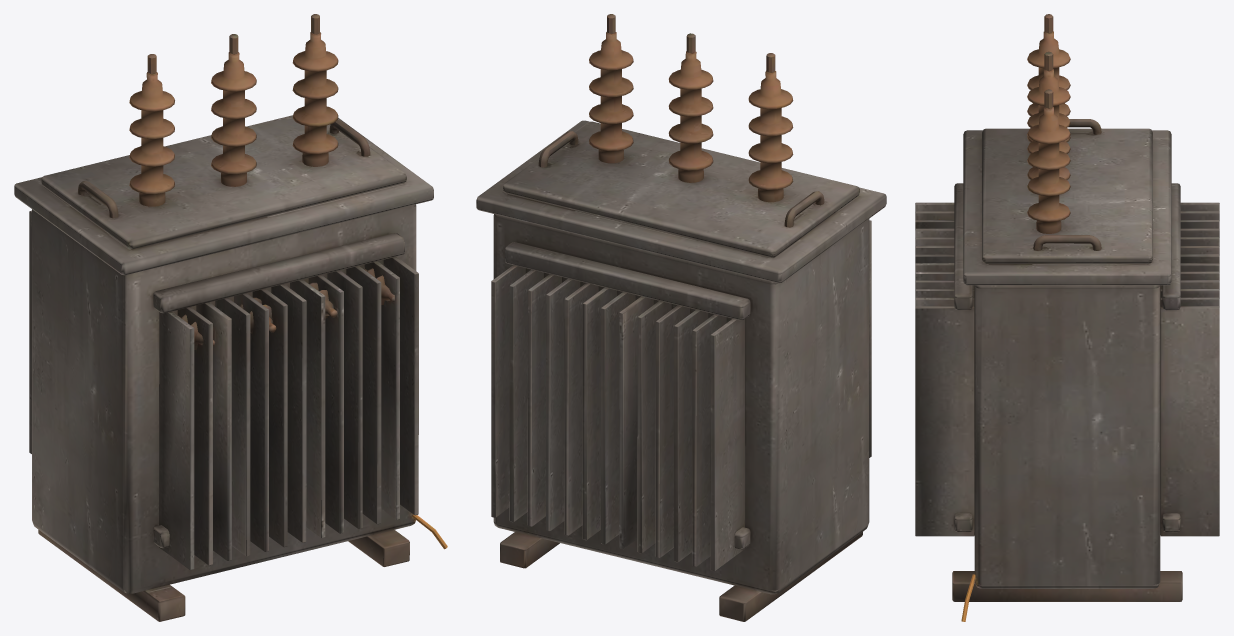
Rendered from transformer.glb.
3 views of the same model, side by side, from view 1: azimuth 30°, elevation 25°; view 2: azimuth 150°, elevation 25°; view 3: azimuth 270°, elevation 25° (orthographic). The views are drawn at different scales.
Visible parts, largest first — view 1: transformer; view 2: transformer; view 3: transformer.
Boxes of the visible parts, <box> form: transformer: <box>14,14,447,621</box>; transformer: <box>476,14,886,621</box>; transformer: <box>915,14,1219,621</box>.
Size of the model in its own units: 0.9548 by 1.46 by 0.82.
Materials: 1 (1 with a texture image).
